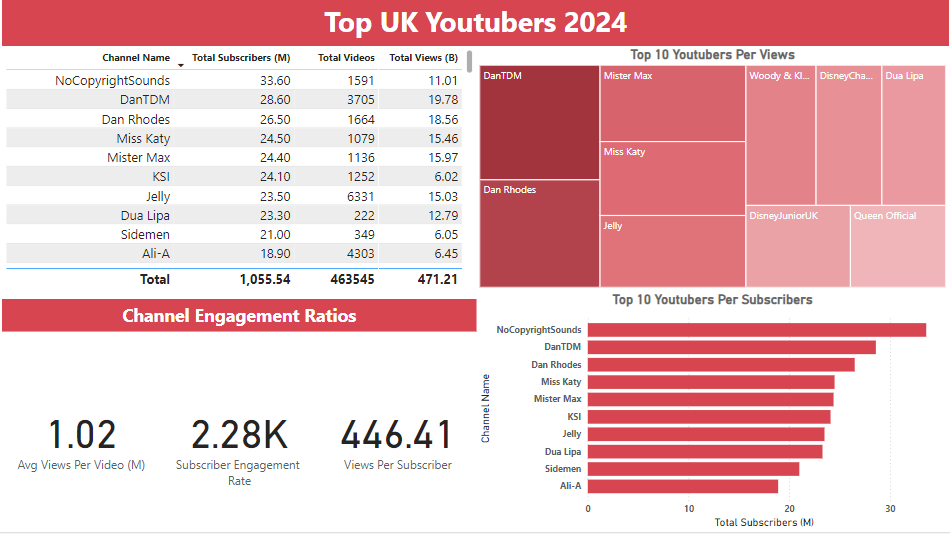

This screenshot's page, from the dashboard's own definition file:
{"tool":"powerbi","page":{"name":"Page 1","canvas":[1280,720],"ordinal":0},"visuals":[{"type":"textbox","box":[0,0,1280,63.8],"z":0},{"type":"treemap","title":"Top 10 Youtubers Per Views","fields":{"Group":["view_uk_youtube_2024.channel_name"],"Values":["view_uk_youtube_2024.Total Views (B)"]},"box":[640.8,63.8,639.2,331],"z":1000},{"type":"card","fields":{"Values":["view_uk_youtube_2024.Avg Views Per Video (M)"]},"box":[0,460.1,214.1,259.6],"z":2000},{"type":"card","fields":{"Values":["view_uk_youtube_2024.Subscriber Engagement Rate"]},"box":[214.1,460.1,214.1,259.6],"z":3000},{"type":"card","fields":{"Values":["view_uk_youtube_2024.Views Per Subscriber"]},"box":[428.2,460.1,212.6,259.6],"z":4000},{"type":"clusteredBarChart","title":"Top 10 Youtubers Per Subscribers","fields":{"Category":["view_uk_youtube_2024.channel_name"],"Y":["view_uk_youtube_2024.Total Subscribers (M)"]},"box":[640.8,394.8,639.2,324.9],"z":5000},{"type":"textbox","box":[0,405.4,640.8,44],"z":6000},{"type":"tableEx","fields":{"Values":["view_uk_youtube_2024.channel_name","view_uk_youtube_2024.Total Subscribers (M)","view_uk_youtube_2024.Total Videos","view_uk_youtube_2024.Total Views (B)"]},"box":[0,63.8,640.8,331],"z":7000}]}

Visuals, with their boxes in screenshot pixels (x1, y1, x2, y2), scaled from the page's 1280x720 canvas onto the 950x534 screenshot:
textbox: [left=0, top=0, right=949, bottom=47]
"Top 10 Youtubers Per Views" treemap: [left=476, top=47, right=949, bottom=293]
card - view_uk_youtube_2024.Avg Views Per Video (M): [left=0, top=341, right=159, bottom=533]
card - view_uk_youtube_2024.Subscriber Engagement Rate: [left=159, top=341, right=318, bottom=533]
card - view_uk_youtube_2024.Views Per Subscriber: [left=318, top=341, right=476, bottom=533]
"Top 10 Youtubers Per Subscribers" clusteredBarChart: [left=476, top=293, right=949, bottom=533]
textbox: [left=0, top=301, right=476, bottom=333]
tableEx - view_uk_youtube_2024.channel_name x view_uk_youtube_2024.Total Subscribers (M): [left=0, top=47, right=476, bottom=293]
